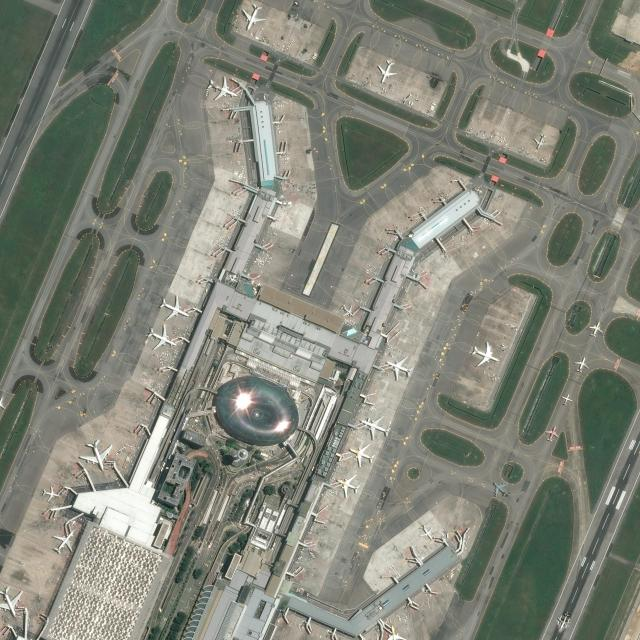1: (0, 585, 23, 617), (386, 625, 406, 640), (0, 396, 6, 410)
aircraft: (78, 438, 112, 471), (158, 294, 190, 321), (206, 75, 238, 101), (146, 324, 176, 349), (470, 341, 500, 366), (360, 415, 390, 440), (240, 2, 266, 30), (385, 356, 413, 381), (348, 443, 376, 467), (51, 529, 75, 555), (335, 474, 361, 498), (376, 58, 397, 83), (41, 485, 60, 501), (492, 480, 508, 498), (556, 612, 572, 630), (544, 425, 560, 442), (588, 320, 603, 338), (533, 132, 548, 150), (418, 524, 434, 540), (574, 356, 588, 372), (340, 303, 354, 318), (560, 392, 572, 406)
